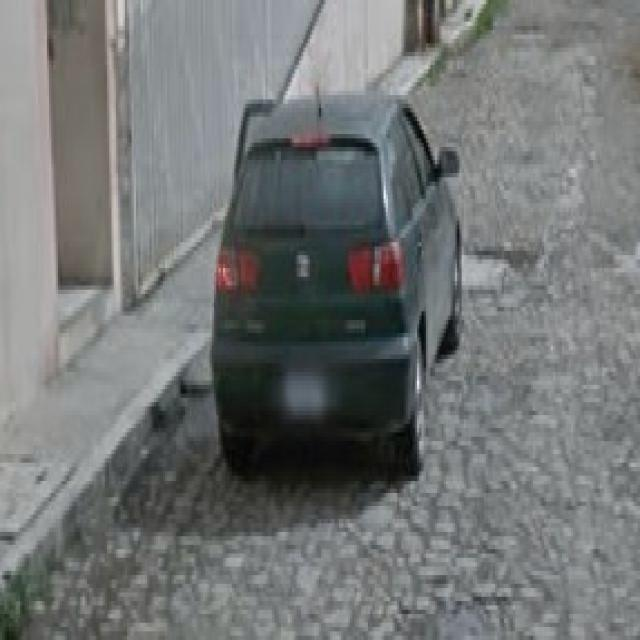Car: (207, 91, 478, 494)
